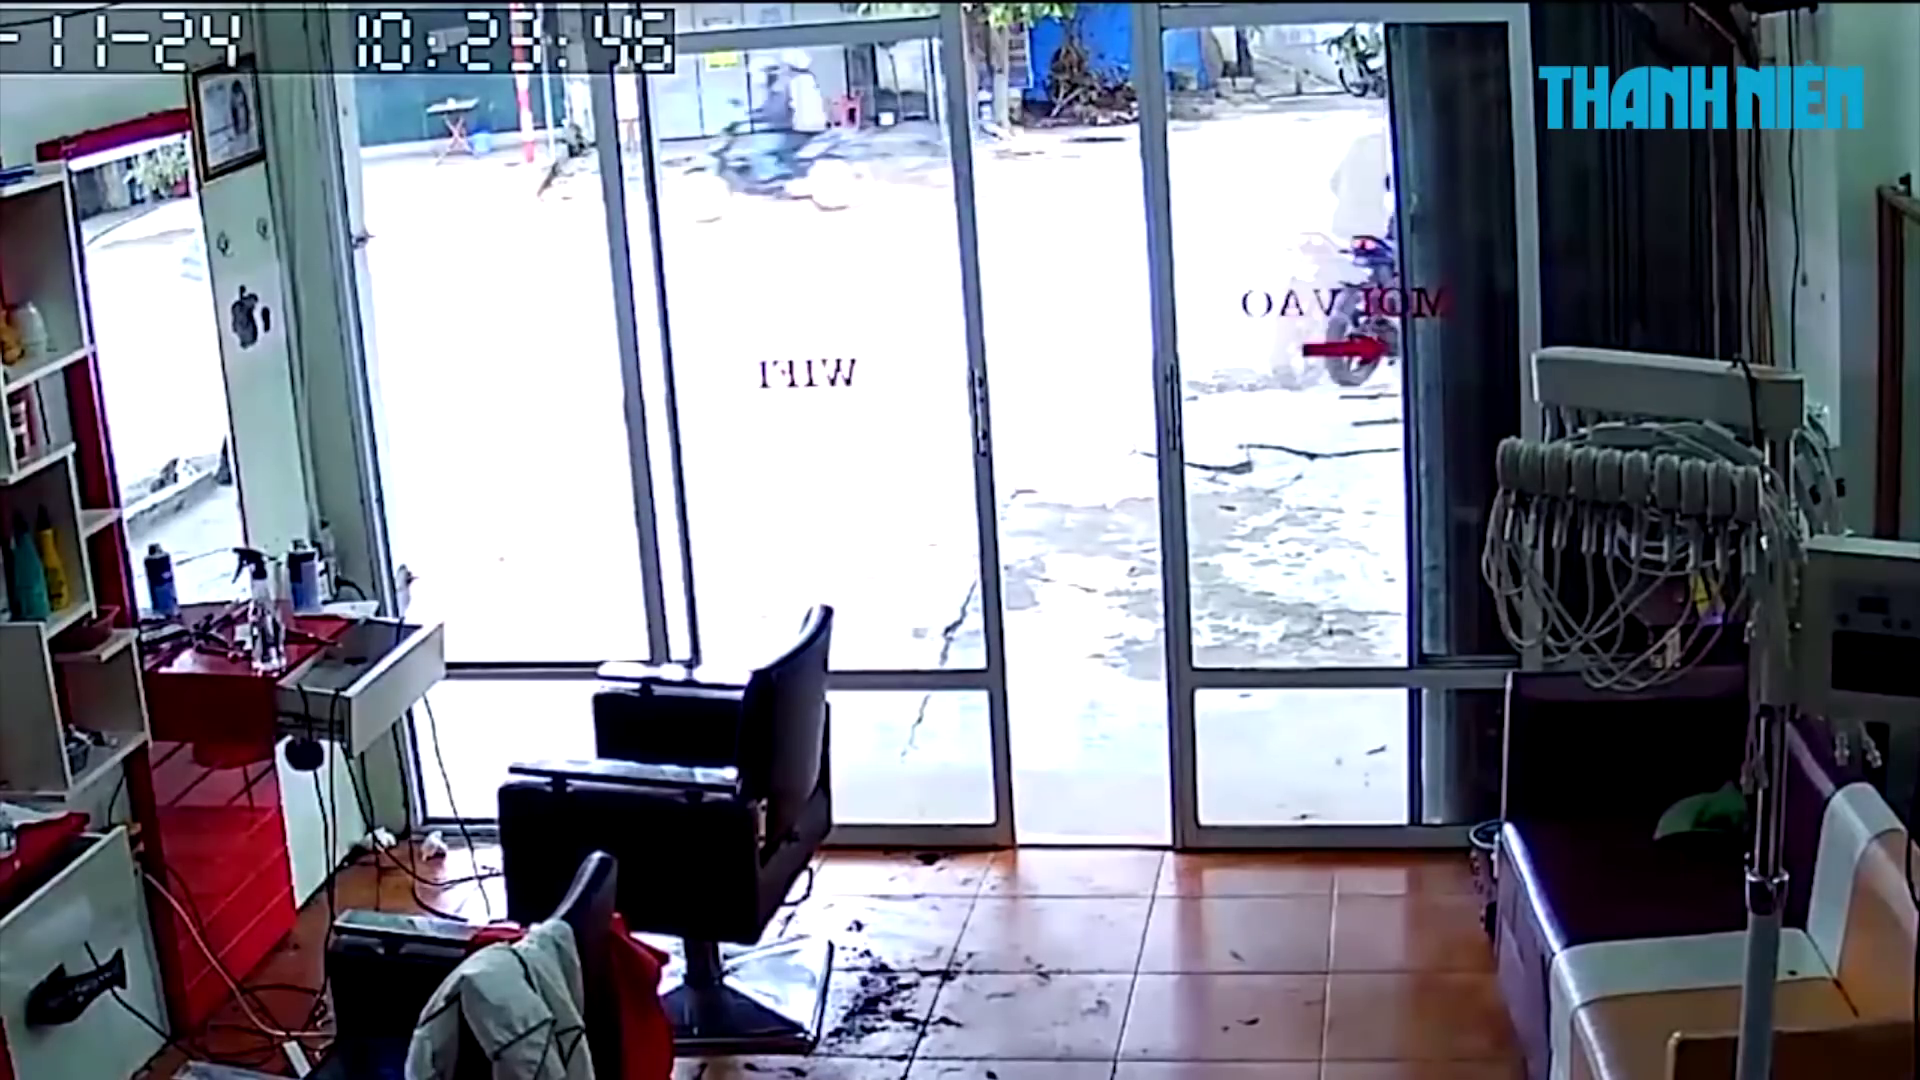Motorcycle: (682, 117, 862, 222)
